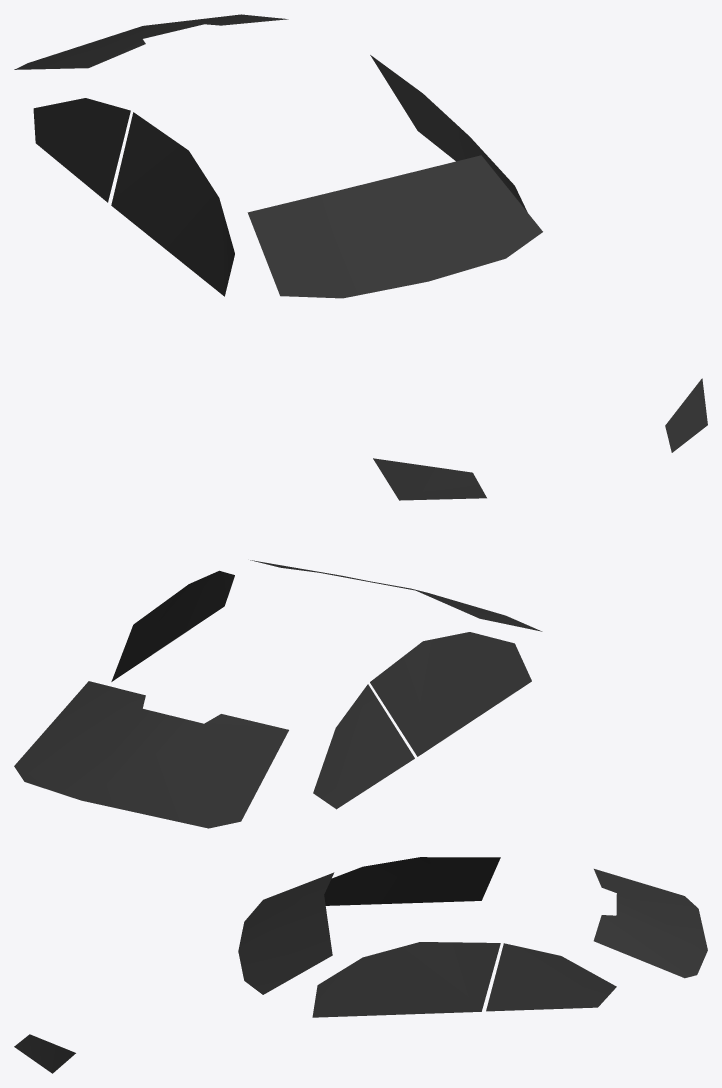
File: XZ_glass_d1.obj
3 renders of one model, top to bottom at view 1: azimuth 30°, elevation 25°; view 2: azimuth 150°, elevation 25°; view 3: azimuth 270°, elevation 25°, orthographic. The views are drawn at different scales.
Parts seen in each view (by area): view 1: XZ_glass; view 2: XZ_glass; view 3: XZ_glass.
Part boxes in pixels (x1,y1,x2,y2): XZ_glass: (14,14,707,500); XZ_glass: (14,560,542,828); XZ_glass: (14,857,707,1073).
Size of the model in its own units: 1.58 by 0.7324 by 3.89.
1 material, 1 textured.
